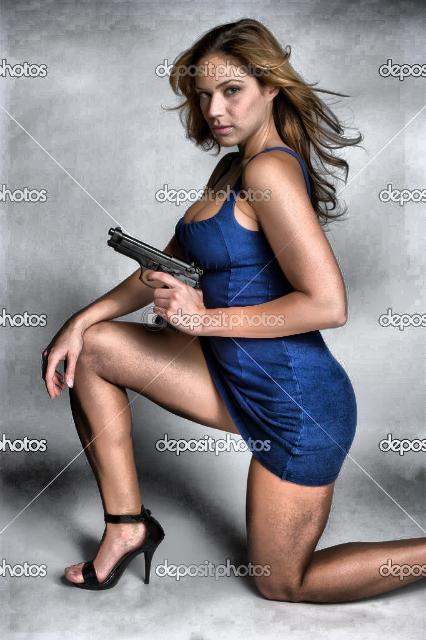pistol: (97, 224, 203, 338)
